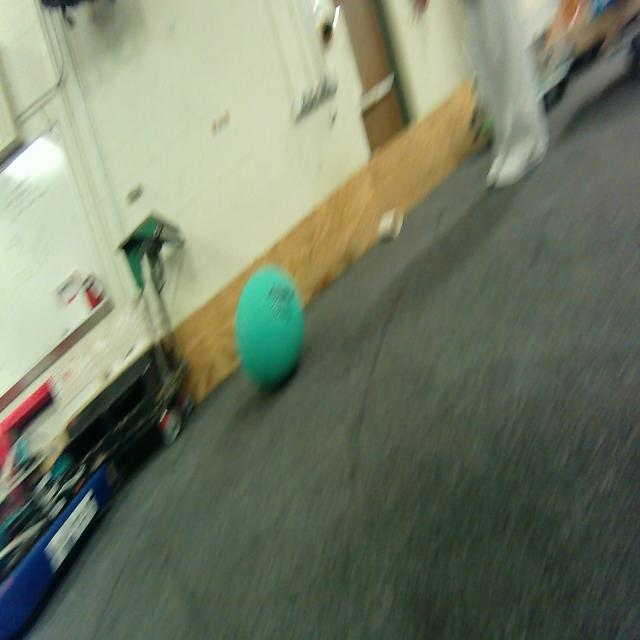algae: (230, 258, 308, 394)
